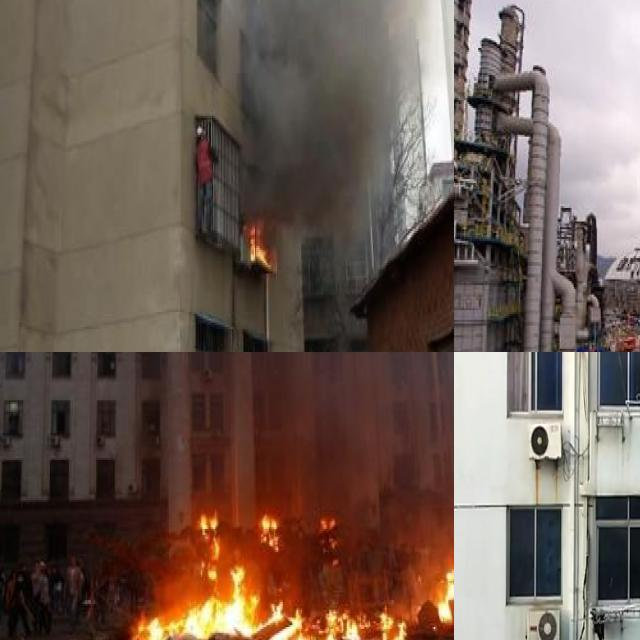fire: (112, 502, 454, 640), (243, 216, 274, 269), (432, 557, 454, 621)
smoke: (243, 0, 454, 222), (275, 352, 400, 510)
